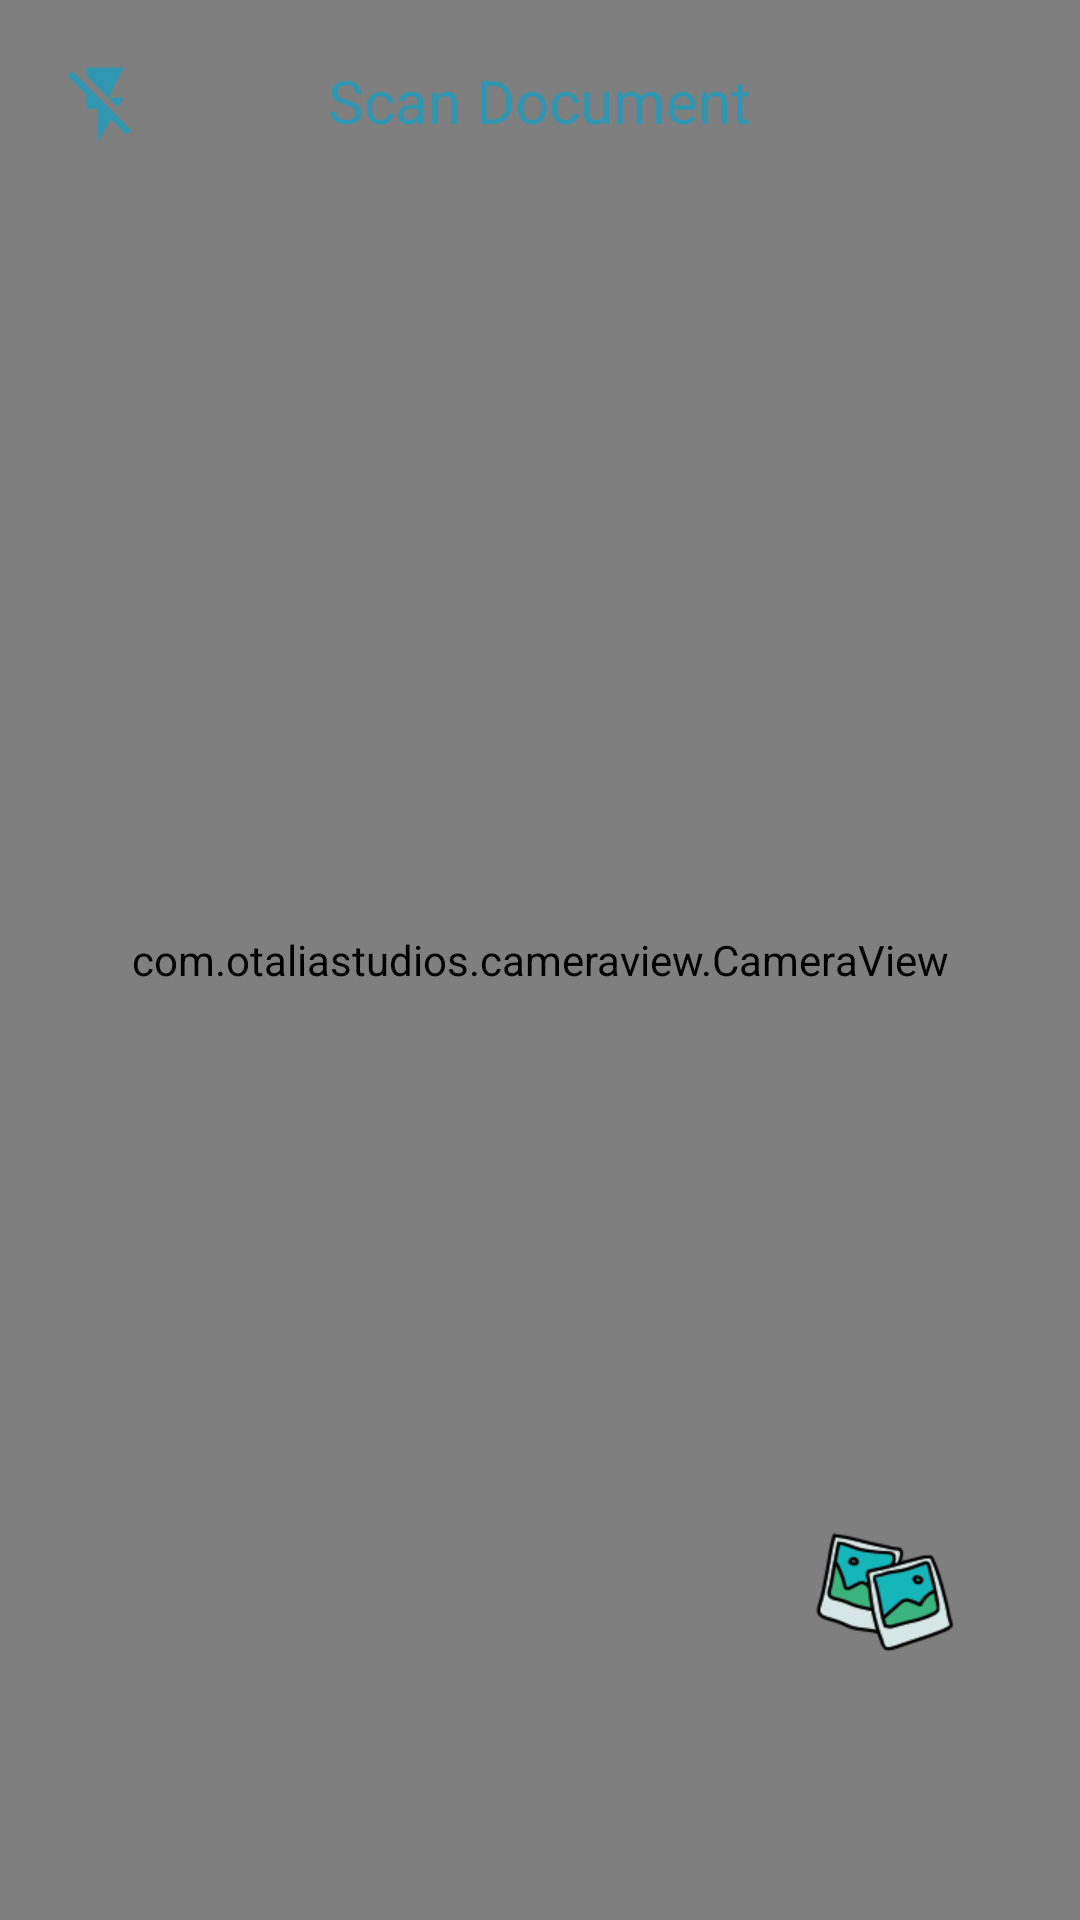

Where icons sit on this 1080x1920 app screen, as (x1, y1, x2, y2):
flash off: (68, 67, 131, 142)
gallery: (816, 1533, 953, 1651)
